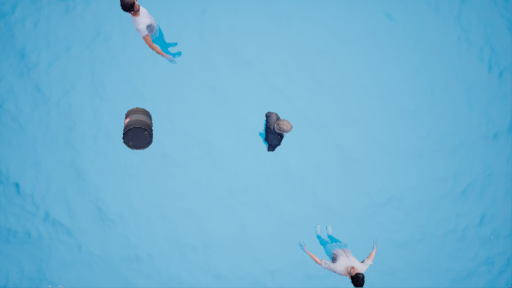person: (287, 226, 379, 288), (120, 2, 185, 74), (243, 113, 299, 158)
